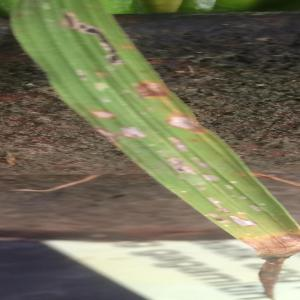Rice_Blast: (126, 69, 193, 109), (78, 94, 126, 132), (161, 105, 210, 139), (121, 123, 157, 154)
